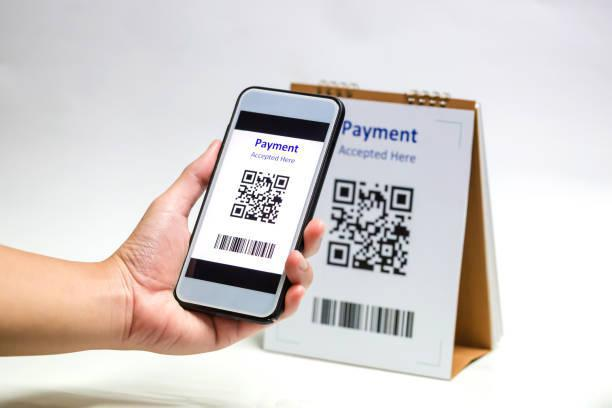Finder pattern: (387, 183, 416, 214), (325, 239, 352, 268), (332, 178, 358, 206), (271, 173, 292, 191), (227, 203, 248, 220), (239, 168, 259, 185)
